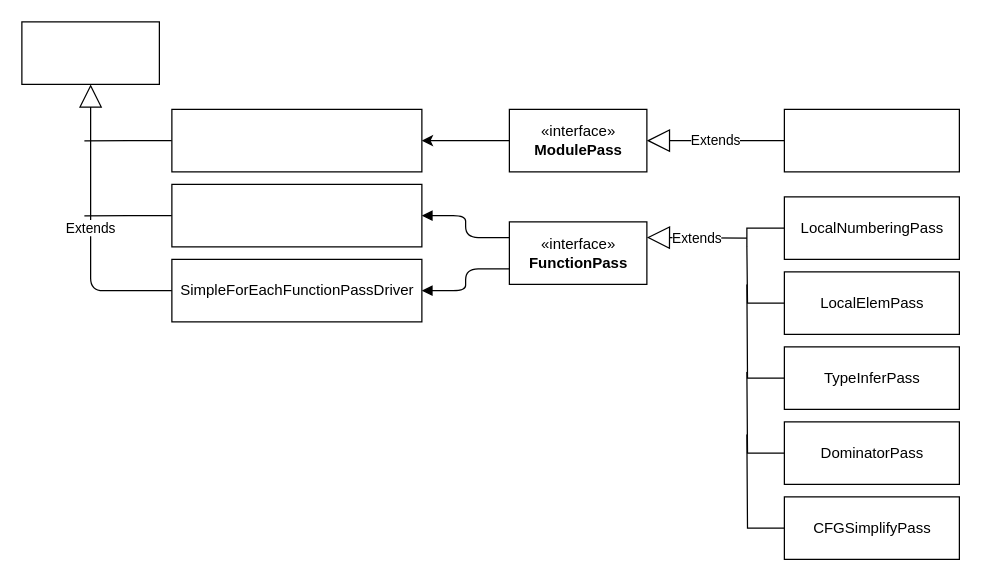
Image size: 981x581. Some labels were removed from this diagram. Each missing label, with the centre of its shape:
PrettyPrintPass: (871,140)
SimpleFunctionPassDirver: (296,215)
SimpleModulePassDirver: (296,140)
«interface» Driver: (90,52)
